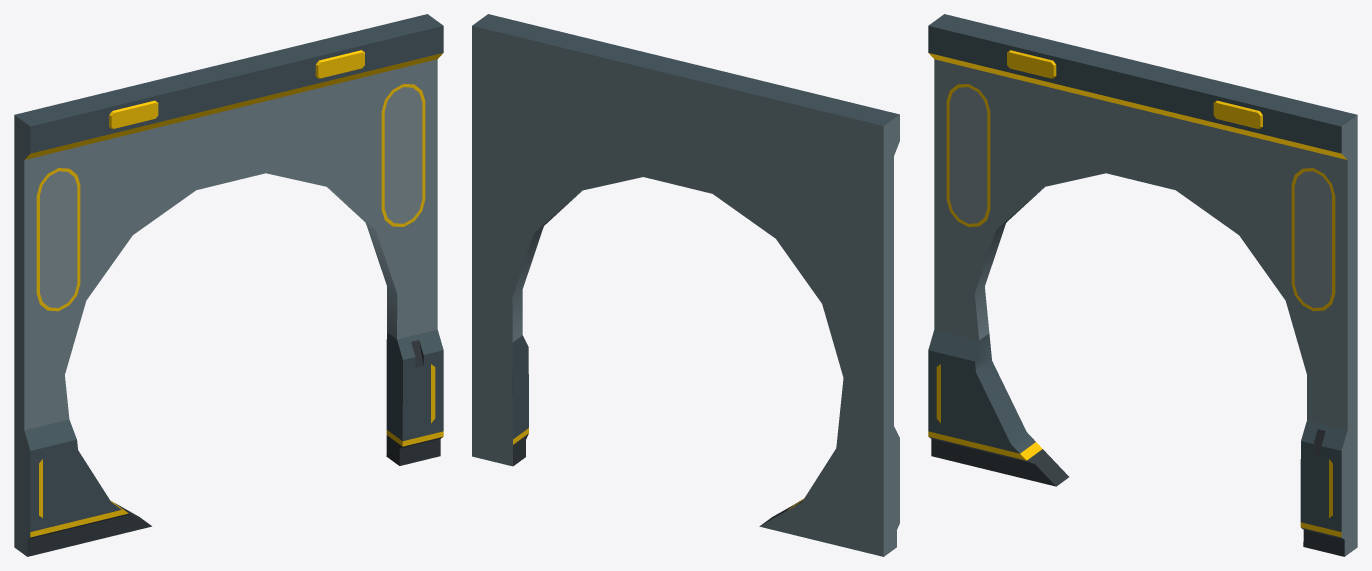
Rendered from Wall_type_C_056.glb.
3 renders of one model, left to right at view 1: azimuth 30°, elevation 25°; view 2: azimuth 150°, elevation 25°; view 3: azimuth 330°, elevation 25°, orthographic.
Parts seen in each view (by area): view 1: Wall_type_C_056; view 2: Wall_type_C_056; view 3: Wall_type_C_056.
Part boxes in pixels (x1=…): Wall_type_C_056: x1=14, y1=14, x2=443, y2=556; Wall_type_C_056: x1=472, y1=14, x2=899, y2=556; Wall_type_C_056: x1=928, y1=14, x2=1357, y2=556.
Size of the model in its own units: 4 by 4 by 0.2898.
2 materials, 2 textured.
